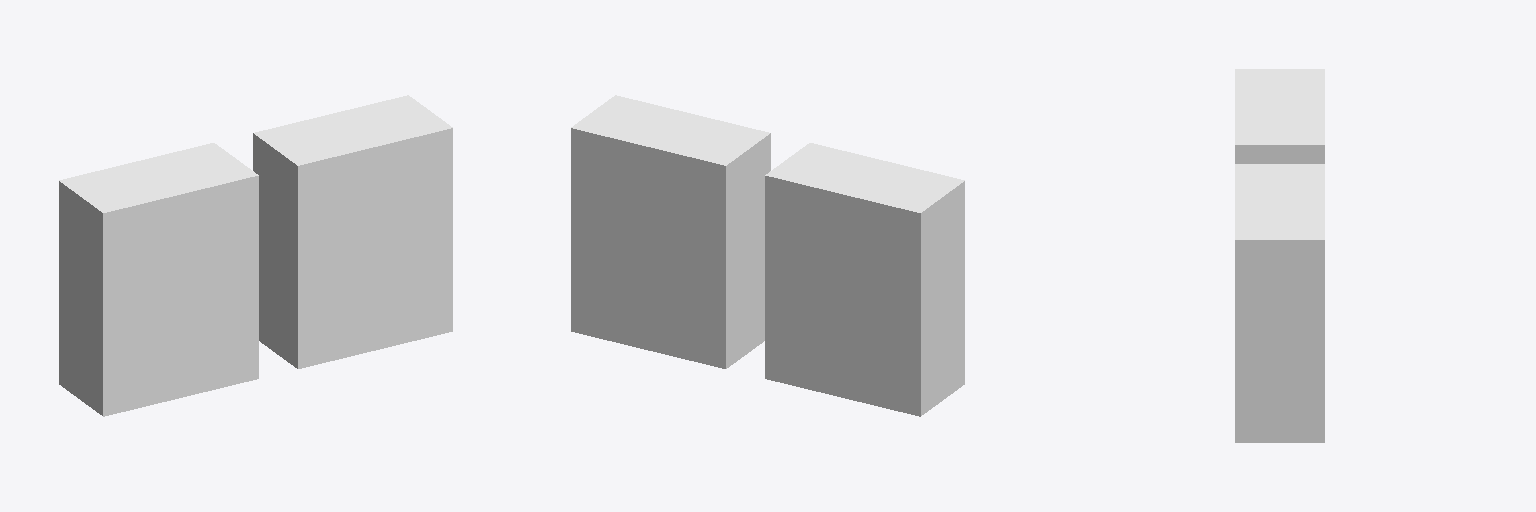
The model's file is Garfield_Hair.obj.
3 views of the same model, side by side, from view 1: azimuth 30°, elevation 25°; view 2: azimuth 150°, elevation 25°; view 3: azimuth 270°, elevation 25° (orthographic).
Visible parts, largest first — view 1: object 1; view 2: object 1; view 3: object 1.
Part boxes in pixels (left/top/right/bottom): object 1: left=59, top=95, right=452, bottom=416; object 1: left=571, top=95, right=964, bottom=416; object 1: left=1235, top=69, right=1324, bottom=442.
Bounding box in the file's own units: 0.9 × 0.5 × 0.2.